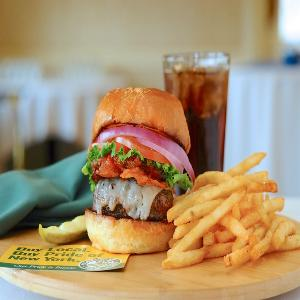cheeseburger: (85, 88, 193, 255)
fries: (170, 157, 299, 273)
